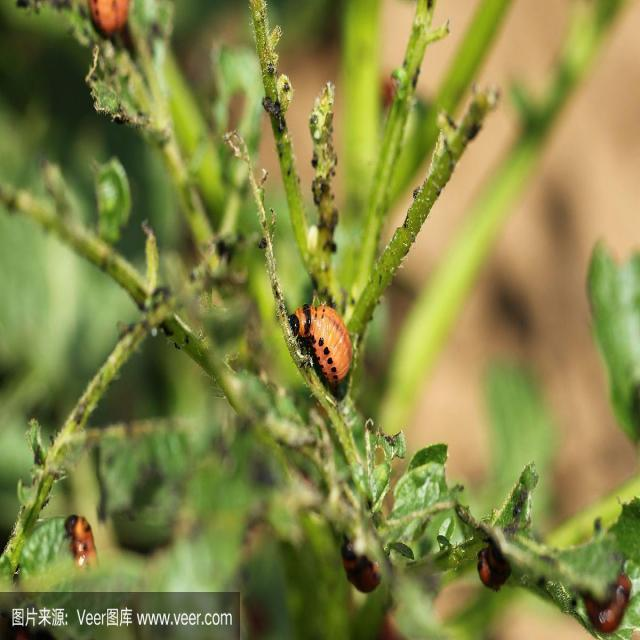ShuCaiHuaBanChong-Larva-: (287, 302, 374, 409)
